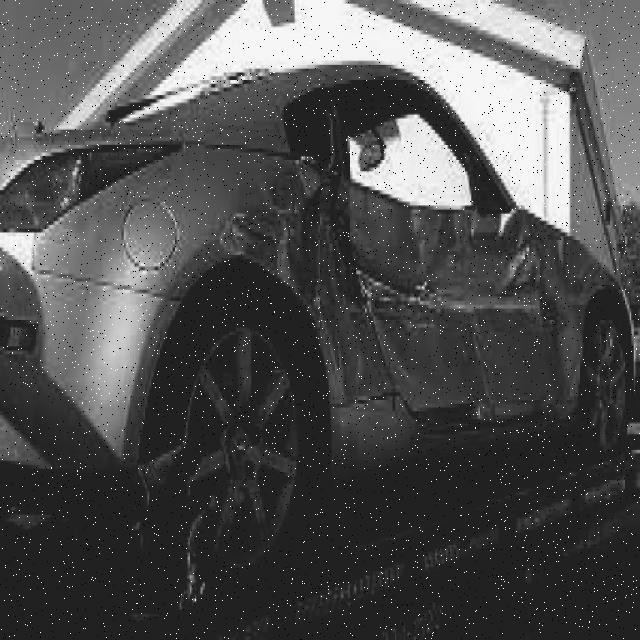car damage: (218, 156, 623, 415)
